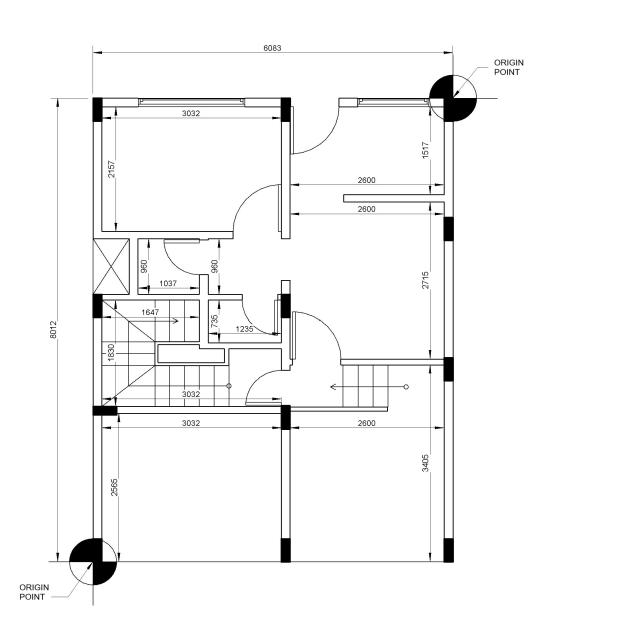Column: (443, 357, 454, 382), (443, 538, 454, 563), (443, 217, 454, 241), (92, 406, 118, 416), (92, 97, 102, 122), (280, 97, 290, 122), (280, 405, 290, 430), (280, 538, 290, 563), (444, 98, 454, 122), (92, 294, 102, 318), (92, 538, 102, 562), (280, 294, 290, 318)
Door: (232, 184, 282, 240), (291, 311, 341, 366), (291, 98, 339, 154), (163, 238, 209, 275), (245, 370, 290, 407), (242, 294, 280, 336)
Staircase: (102, 300, 229, 406), (291, 366, 444, 406)
Window: (138, 98, 245, 107), (357, 98, 429, 107)
